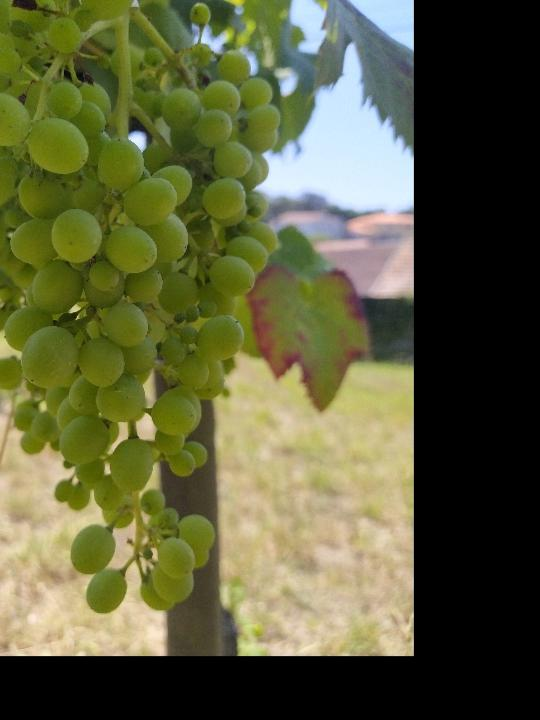grape: (0, 0, 285, 616)
